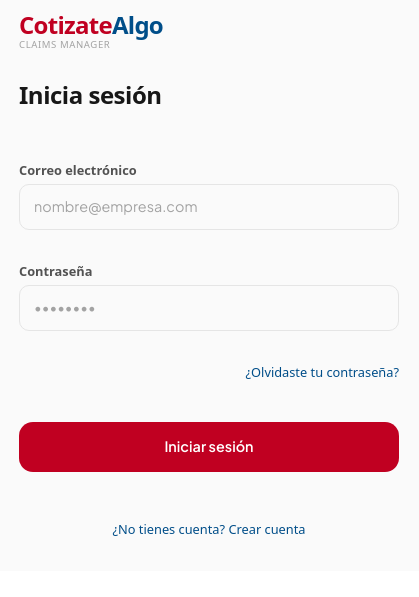
LoginForm › renders validation errors and does not submit invalid form
Click the button "Iniciar sesión" at (209, 447), box left=19, top=422, right=399, bottom=472
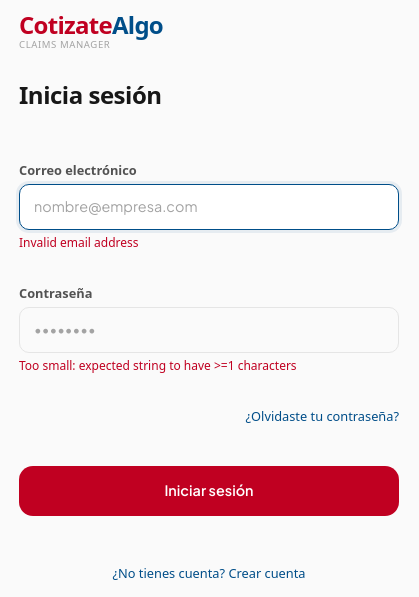
Expected: the message "Invalid email address" is shown, left=19, top=234, right=138, bottom=251
